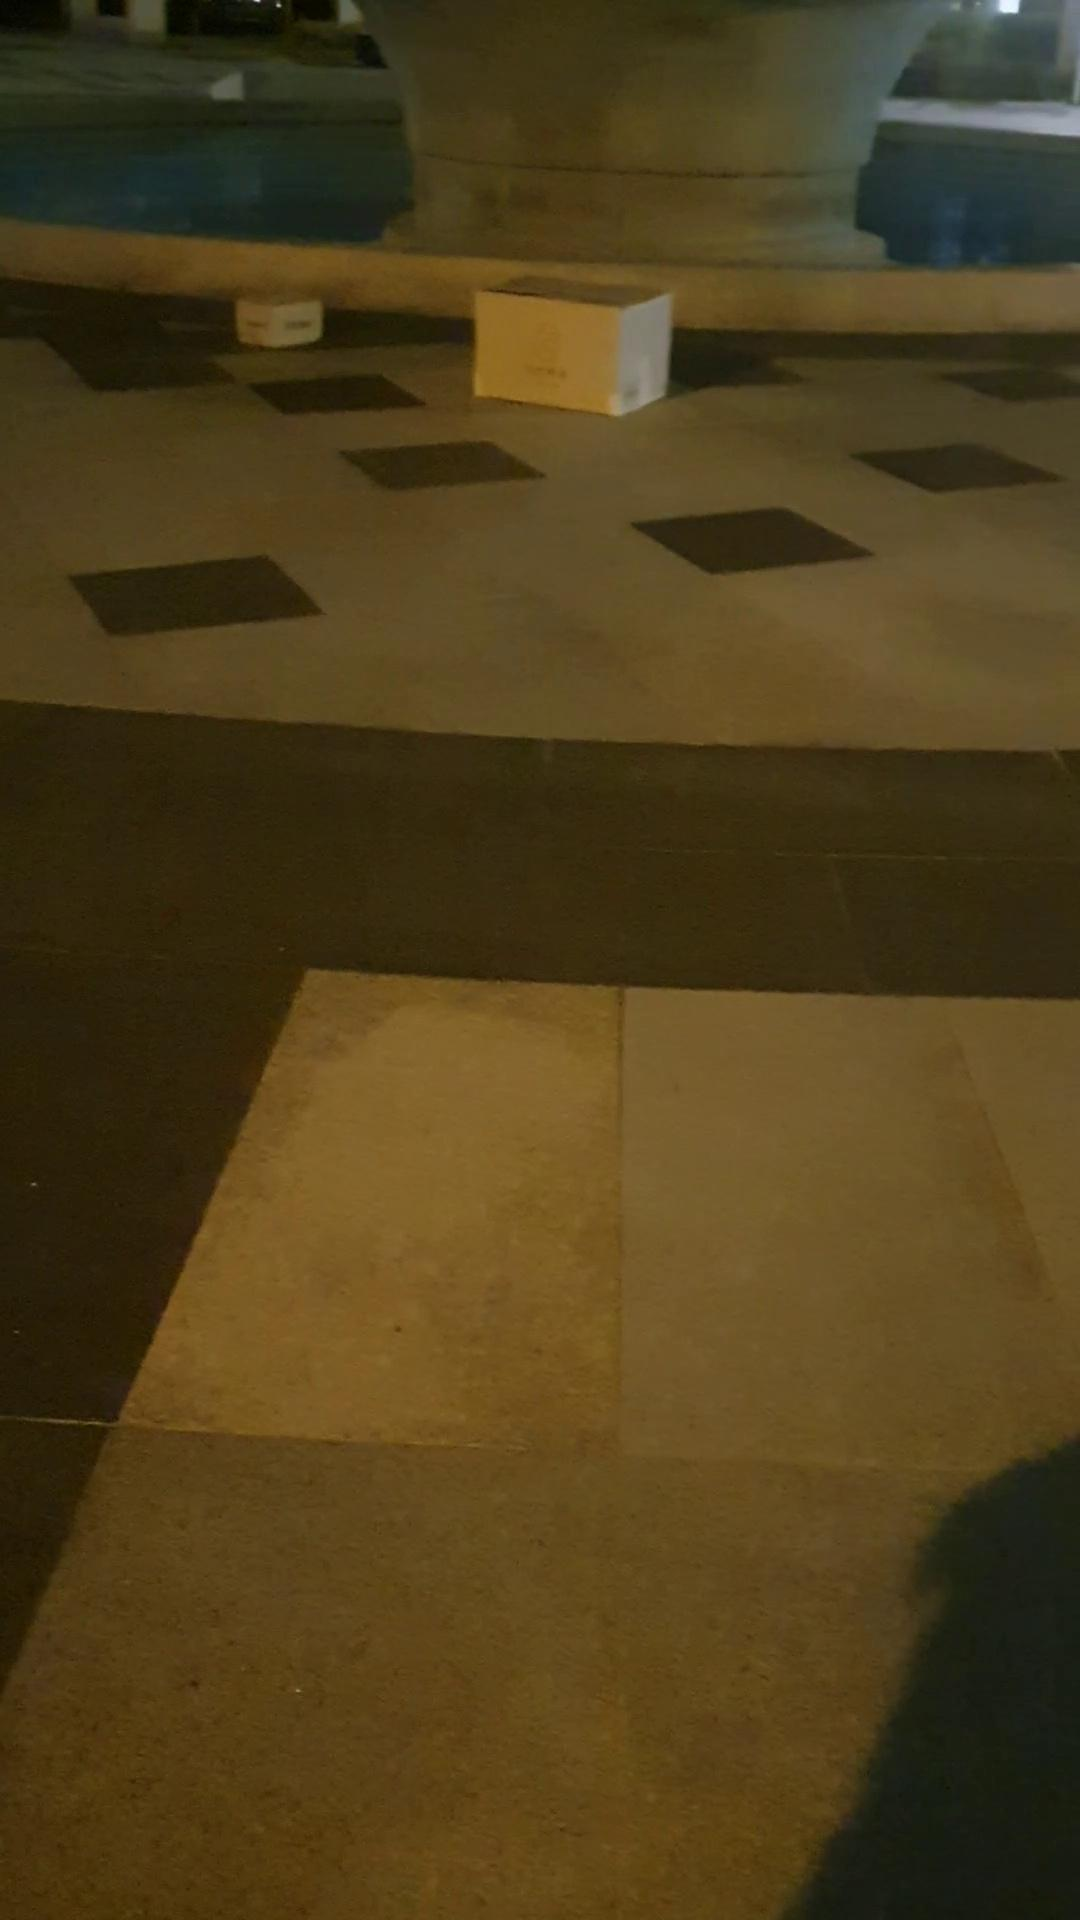Box: (465, 276, 682, 427), (216, 278, 323, 357)
